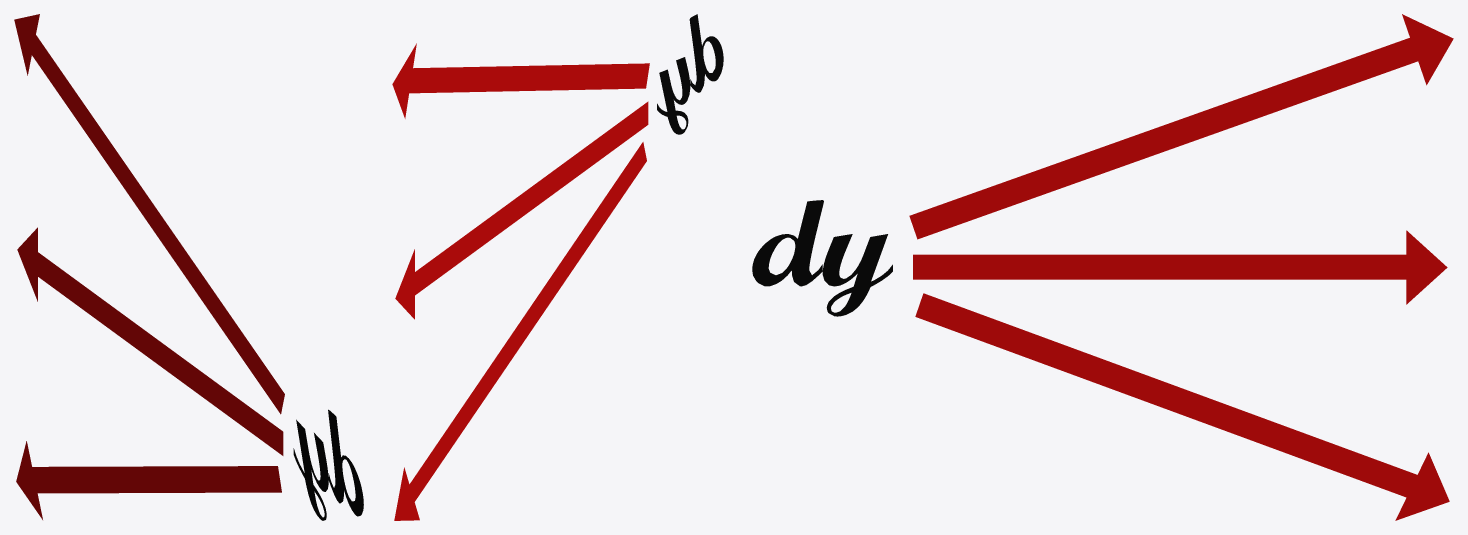
Rendered from dy flechas.fbx.
The picture shows the model from 3 angles, left to right: view 1: azimuth 30°, elevation 25°; view 2: azimuth 150°, elevation 25°; view 3: azimuth 270°, elevation 25°; orthographic projection. The views are drawn at different scales.
Visible parts, largest first — view 1: polySurface22, polySurface23, polySurface21, Trim_Char_y_1_1, Trim_Char_d_3_1; view 2: polySurface23, polySurface22, polySurface21, Trim_Char_y_1_1, Trim_Char_d_3_1; view 3: polySurface22, polySurface23, polySurface21, Trim_Char_y_1_1, Trim_Char_d_3_1.
Part boxes in pixels (x1=…): polySurface22: x1=14, y1=14, x2=284, y2=414; polySurface23: x1=16, y1=441, x2=281, y2=519; polySurface21: x1=17, y1=227, x2=283, y2=455; Trim_Char_y_1_1: x1=293, y1=419, x2=328, y2=520; Trim_Char_d_3_1: x1=328, y1=409, x2=363, y2=516; polySurface23: x1=394, y1=142, x2=646, y2=520; polySurface22: x1=392, y1=43, x2=649, y2=118; polySurface21: x1=395, y1=101, x2=648, y2=319; Trim_Char_y_1_1: x1=657, y1=57, x2=690, y2=134; Trim_Char_d_3_1: x1=689, y1=14, x2=723, y2=92; polySurface22: x1=909, y1=14, x2=1453, y2=239; polySurface23: x1=915, y1=293, x2=1449, y2=520; polySurface21: x1=913, y1=230, x2=1447, y2=304; Trim_Char_y_1_1: x1=822, y1=234, x2=892, y2=316; Trim_Char_d_3_1: x1=752, y1=200, x2=823, y2=286.
Size of the model in its own units: 0.0174 by 13.5 by 16.93.
